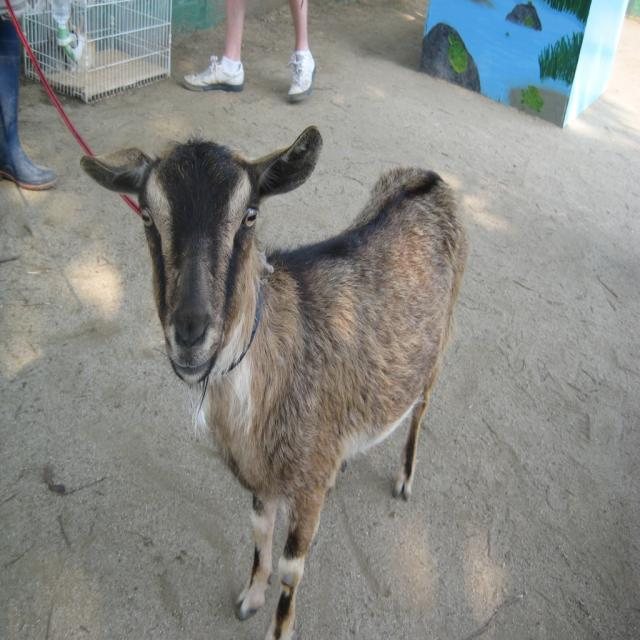Goat: (80, 121, 471, 640)
